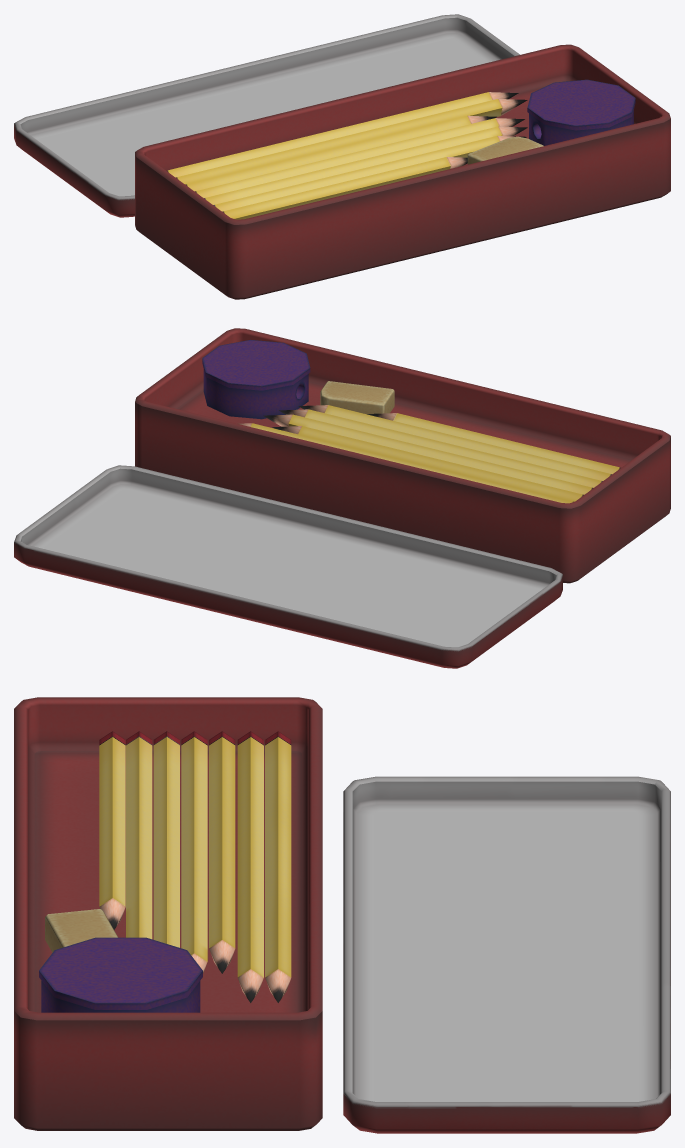
File: Settings.fbx
The picture shows the model from 3 angles, top to bottom: view 1: azimuth 30°, elevation 25°; view 2: azimuth 150°, elevation 25°; view 3: azimuth 270°, elevation 25°; orthographic projection. The views are drawn at different scales.
Parts seen in each view (by area): view 1: btm, cover, pencil, sharpener; view 2: cover, btm, pencil, sharpener; view 3: cover, btm, pencil, sharpener.
Boxes of the visible parts, left/top/right/bottom form: btm: left=135, top=44, right=670, bottom=299; cover: left=14, top=14, right=519, bottom=217; pencil: left=166, top=92, right=543, bottom=219; sharpener: left=527, top=79, right=635, bottom=145; cover: left=14, top=465, right=562, bottom=668; btm: left=135, top=328, right=670, bottom=583; pencil: left=237, top=381, right=620, bottom=503; sharpener: left=202, top=339, right=310, bottom=419; cover: left=343, top=776, right=670, bottom=1133; btm: left=14, top=697, right=322, bottom=1130; pencil: left=45, top=731, right=291, bottom=1002; sharpener: left=39, top=937, right=202, bottom=1012.
Size of the model in its own units: 303 by 51.53 by 255.
